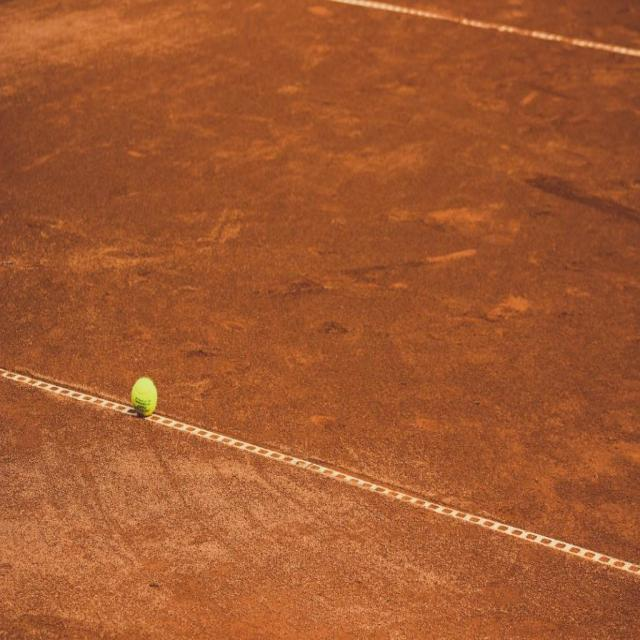Tennis ball: (131, 378, 159, 419)
